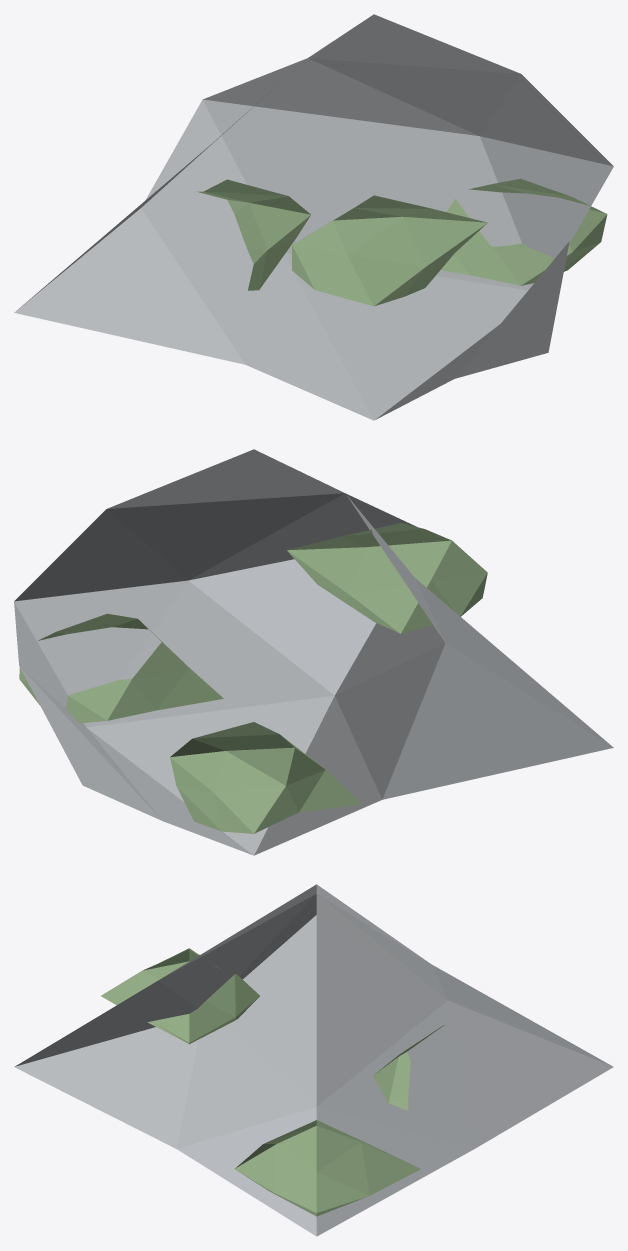
Rendered from moss_rock_v37.glb.
The picture shows the model from 3 angles, top to bottom: view 1: azimuth 30°, elevation 25°; view 2: azimuth 150°, elevation 25°; view 3: azimuth 270°, elevation 25°; orthographic projection. The views are drawn at different scales.
Visible parts, largest first — view 1: lod0; view 2: lod0; view 3: lod0.
Boxes of the visible parts, box(x1,y1,x2,y2) form: lod0: box(14, 14, 613, 420); lod0: box(14, 449, 613, 855); lod0: box(14, 884, 613, 1236).
Size of what is drawn, in the model's own units: 1.12 by 0.7277 by 1.12.
